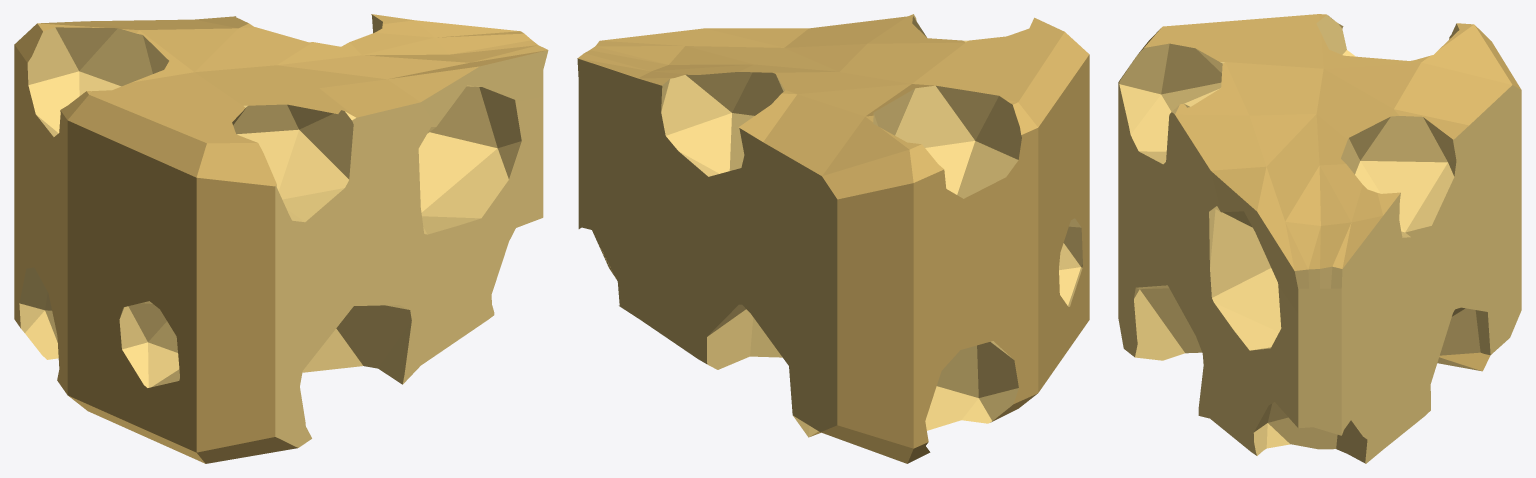
The model's file is Cheese.fbx.
The picture shows the model from 3 angles, left to right: view 1: azimuth 30°, elevation 25°; view 2: azimuth 150°, elevation 25°; view 3: azimuth 270°, elevation 25°; orthographic projection. The views are drawn at different scales.
Visible parts, largest first — view 1: Cube; view 2: Cube; view 3: Cube.
Boxes of the visible parts, box(x1,y1,x2,y2) form: Cube: box(14, 14, 548, 463); Cube: box(577, 14, 1089, 463); Cube: box(1118, 14, 1521, 463).
Bounding box in the file's own units: 67.94 × 45.07 × 53.81.
